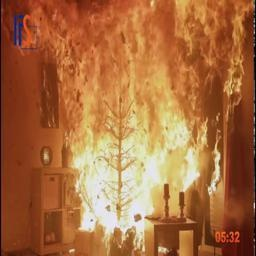fire: (3, 0, 255, 230)
